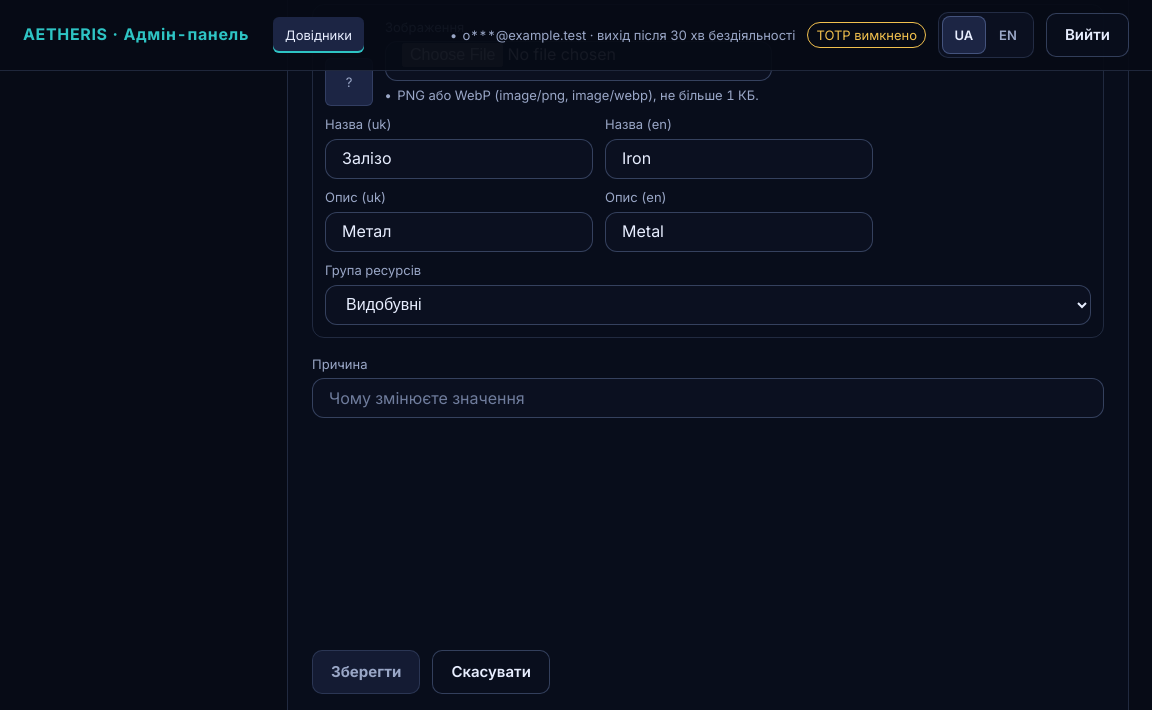
Scenario: admin reference kinds (task 00023) › says that the data changed on 409 and shows a refused field next to it on 422
(page scrolled)
Type "Правка" into the field labelled "Причина" at (708, 398), box x1=312 y1=378 x2=1104 y2=418
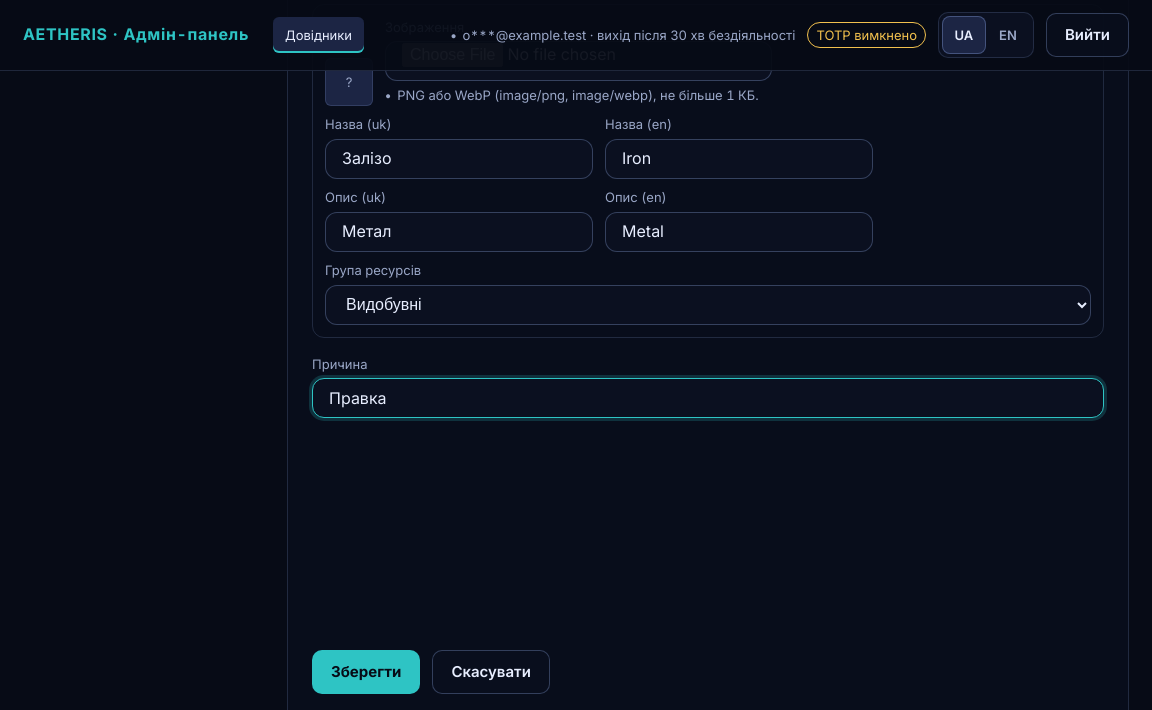
Click the button "Зберегти" at (366, 672), box x1=312 y1=650 x2=420 y2=694
(page scrolled)
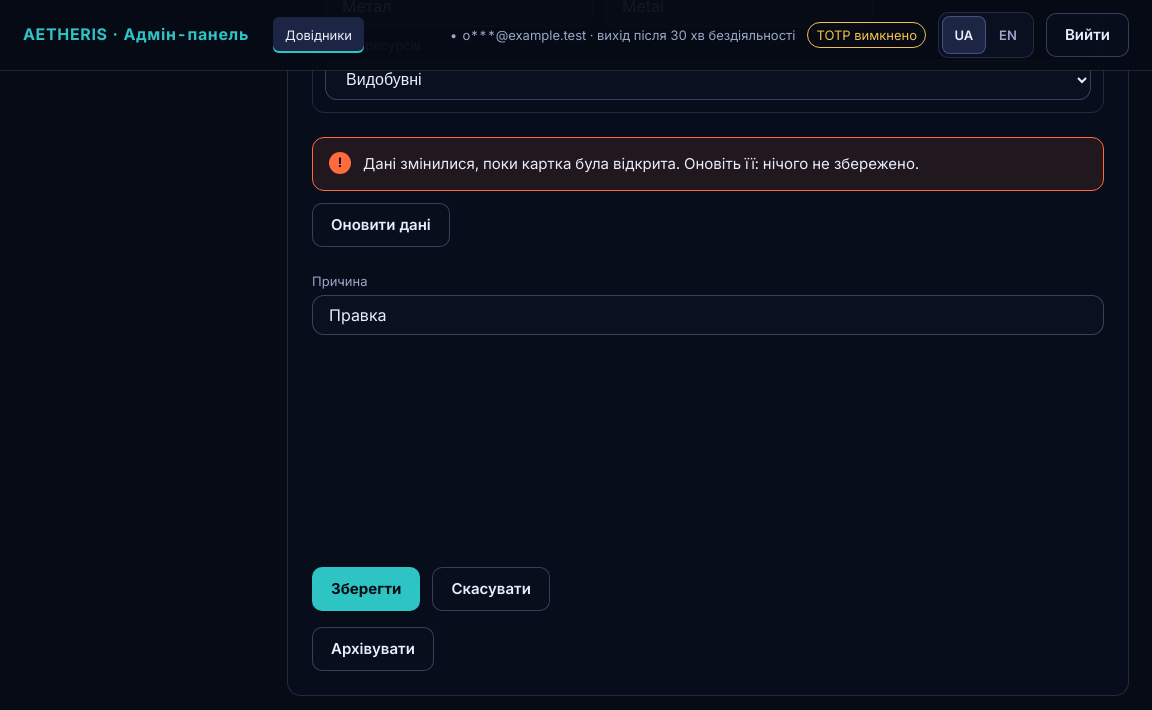
Now the button "Оновити дані" is shown, box x1=312 y1=202 x2=450 y2=246
Click the button "Зберегти" at (366, 588), box x1=312 y1=566 x2=420 y2=610
(page scrolled)
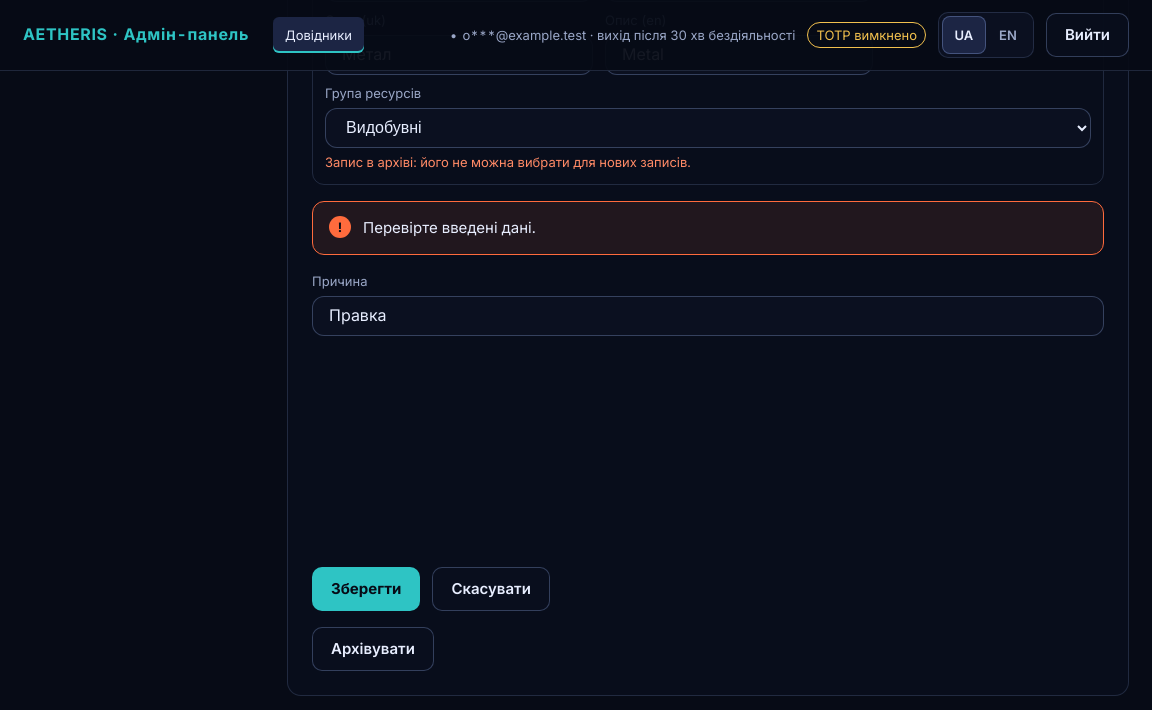
Now the text "Запис в архіві: його не можна вибрати для нових записів." is shown, box x1=325 y1=154 x2=691 y2=170
